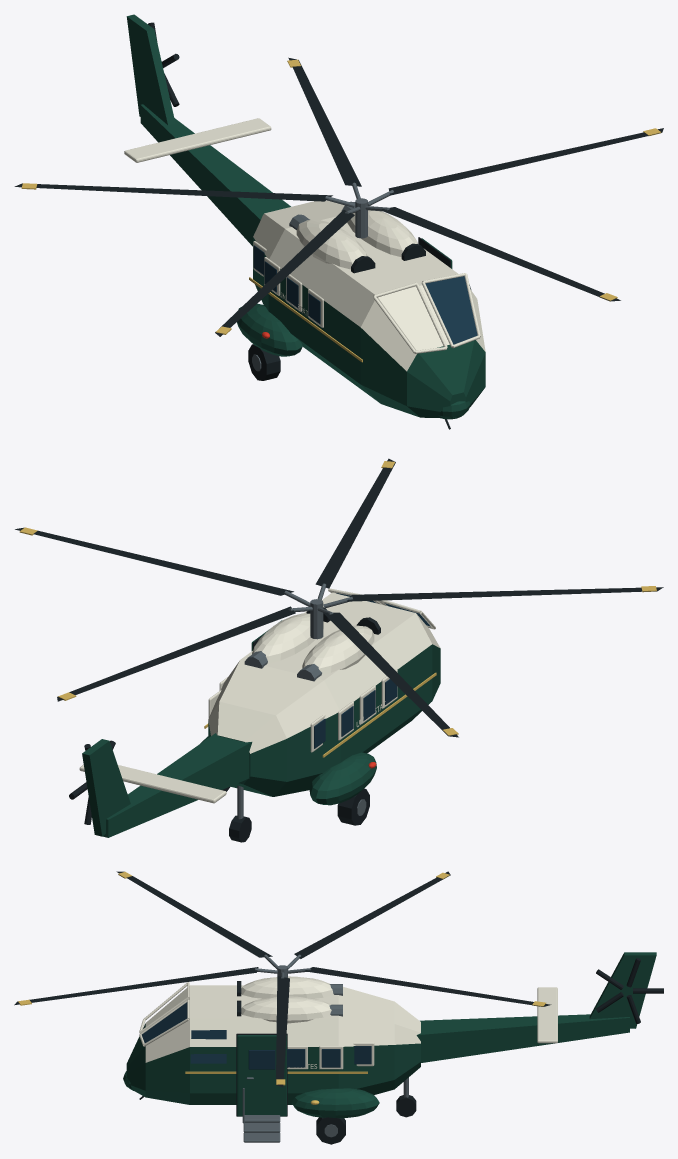
Rendered from arrival-helicopter.glb.
3 views of the same model, one above another, from view 1: azimuth 30°, elevation 25°; view 2: azimuth 150°, elevation 25°; view 3: azimuth 270°, elevation 25° (orthographic). The views are drawn at different scales.
Visible parts, largest first — view 1: Sculpted boat hull, Tapered tail boom, Swept tail fin, Tail stabilizer, Cockpit windshield.001, Gear sponson, Engine nacelle, Tapered main blade.004, Tapered main blade, Tapered main blade.002, Tapered main blade.003, Engine nacelle.001 (+2 smaller); view 2: Sculpted boat hull, Tapered tail boom, Swept tail fin, Gear sponson, Engine nacelle.001, Engine nacelle, Tapered main blade.003, Tapered main blade.001, Tapered main blade, Tapered main blade.002, Tapered main blade.004, Tail stabilizer (+1 smaller); view 3: Sculpted boat hull, Tapered tail boom, Sliding door panel, Swept tail fin, Gear sponson.001, Engine nacelle.001, Engine nacelle, Tapered main blade.001, Tapered main blade.004, Tail stabilizer, Tapered main blade, Tapered main blade.002 (+7 smaller).
Part boxes in pixels (left/top/right/bottom): Sculpted boat hull: left=253, top=200, right=485, bottom=417; Tapered tail boom: left=140, top=104, right=290, bottom=246; Swept tail fin: left=126, top=14, right=175, bottom=125; Tail stabilizer: left=124, top=118, right=271, bottom=162; Cockpit windshield.001: left=425, top=276, right=477, bottom=344; Gear sponson: left=237, top=303, right=302, bottom=356; Engine nacelle: left=296, top=219, right=367, bottom=269; Tapered main blade.004: left=379, top=207, right=620, bottom=301; Tapered main blade: left=388, top=128, right=663, bottom=195; Tapered main blade.002: left=14, top=183, right=332, bottom=201; Tapered main blade.003: left=215, top=210, right=354, bottom=336; Engine nacelle.001: left=347, top=210, right=417, bottom=257; Sculpted boat hull: left=208, top=592, right=440, bottom=796; Tapered tail boom: left=103, top=733, right=252, bottom=837; Swept tail fin: left=82, top=739, right=130, bottom=836; Gear sponson: left=309, top=752, right=376, bottom=805; Engine nacelle.001: left=252, top=613, right=323, bottom=663; Engine nacelle: left=302, top=625, right=374, bottom=674; Tapered main blade.003: left=347, top=587, right=663, bottom=601; Tapered main blade.001: left=57, top=606, right=295, bottom=701; Tapered main blade: left=15, top=527, right=293, bottom=595; Tapered main blade.002: left=323, top=612, right=458, bottom=737; Tapered main blade.004: left=315, top=458, right=395, bottom=588; Tail stabilizer: left=79, top=765, right=226, bottom=803; Sculpted boat hull: left=126, top=985, right=420, bottom=1104; Tapered tail boom: left=416, top=1014, right=629, bottom=1063; Sliding door panel: left=237, top=1035, right=286, bottom=1116; Swept tail fin: left=589, top=952, right=656, bottom=1028; Gear sponson.001: left=291, top=1088, right=379, bottom=1118; Engine nacelle.001: left=241, top=996, right=331, bottom=1023; Engine nacelle: left=241, top=976, right=333, bottom=998; Tapered main blade.001: left=303, top=967, right=551, bottom=1006; Tapered main blade.004: left=14, top=967, right=258, bottom=1005; Tail stabilizer: left=537, top=987, right=557, bottom=1043; Tapered main blade: left=276, top=976, right=289, bottom=1087; Tapered main blade.002: left=294, top=871, right=450, bottom=958.
Size of what is drawn, in the model's own units: 17.38 by 6.05 by 22.07.
